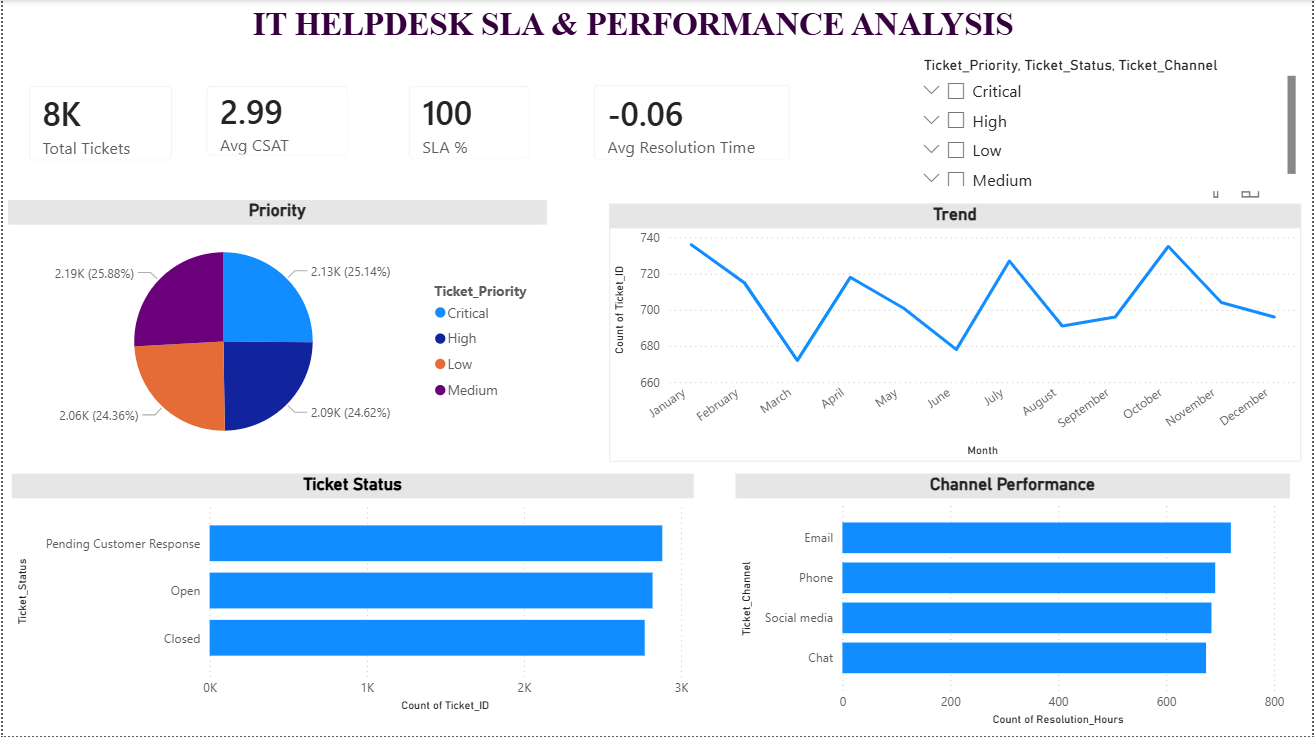

This screenshot's page, from the dashboard's own definition file:
{"tool":"powerbi","page":{"name":"Page 1","canvas":[1280,720],"ordinal":0},"visuals":[{"type":"barChart","title":"Ticket Status","fields":{"Category":["tickets_final.Ticket_Status"],"Y":["CountNonNull(tickets_final.Ticket_ID)"]},"box":[8.2,463.8,666.9,237.4],"z":0},{"type":"pieChart","title":"Priority","fields":{"Category":["tickets_final.Ticket_Priority"],"Y":["CountNonNull(tickets_final.Ticket_ID)"]},"box":[5.5,196.2,526.9,258],"z":1000},{"type":"lineChart","title":"Trend","fields":{"Category":["tickets_final.Date_of_Purchase.Variation.Date Hierarchy.Month"],"Y":["CountNonNull(tickets_final.Ticket_ID)"]},"box":[592.8,199,676.5,252.5],"z":2000},{"type":"barChart","title":"Channel Performance","fields":{"Category":["tickets_final.Ticket_Channel"],"Y":["CountNonNull(tickets_final.Resolution_Hours)"]},"box":[716.3,463.8,542,251.1],"z":3000},{"type":"cardVisual","fields":{"Data":["tickets_final.Total Tickets"]},"box":[8.2,67.2,174.3,107],"z":4000},{"type":"cardVisual","fields":{"Data":["tickets_final.Avg CSAT"]},"box":[182.5,67.2,172.9,102.9],"z":5000},{"type":"cardVisual","fields":{"Data":["tickets_final.Avg Resolution Time"]},"box":[561.2,65.9,226.4,108.4],"z":6000},{"type":"cardVisual","fields":{"Data":["tickets_final.SLA %"]},"box":[380.1,67.2,152.3,105.7],"z":7000},{"type":"slicer","fields":{"Values":["tickets_final.Ticket_Priority","tickets_final.Ticket_Status","tickets_final.Ticket_Channel"]},"box":[887.8,50.1,381.5,137],"z":8000},{"type":"textbox","box":[217.7,0,797.3,50.1],"z":8001}]}

Visuals, with their boxes in screenshot pixels (x1, y1, x2, y2), scaled from the page's 1280x720 canvas onto the 1315x737 screenshot:
"Ticket Status" barChart: <box>8,475,694,718</box>
"Priority" pieChart: <box>6,201,547,465</box>
"Trend" lineChart: <box>609,204,1304,462</box>
"Channel Performance" barChart: <box>736,475,1293,732</box>
cardVisual - tickets_final.Total Tickets: <box>8,69,187,178</box>
cardVisual - tickets_final.Avg CSAT: <box>187,69,365,174</box>
cardVisual - tickets_final.Avg Resolution Time: <box>577,67,809,178</box>
cardVisual - tickets_final.SLA %: <box>390,69,547,177</box>
slicer - tickets_final.Ticket_Priority x tickets_final.Ticket_Status: <box>912,51,1304,192</box>
textbox: <box>224,0,1043,51</box>
